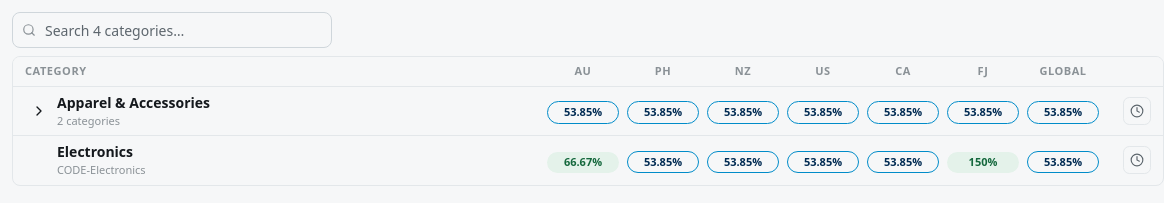
Test: CategoryMarginTree › search flattens to matching nodes shown with their full path
Type "jackets" into the search field at {"x": 172, "y": 30}, box [12,12,332,48]
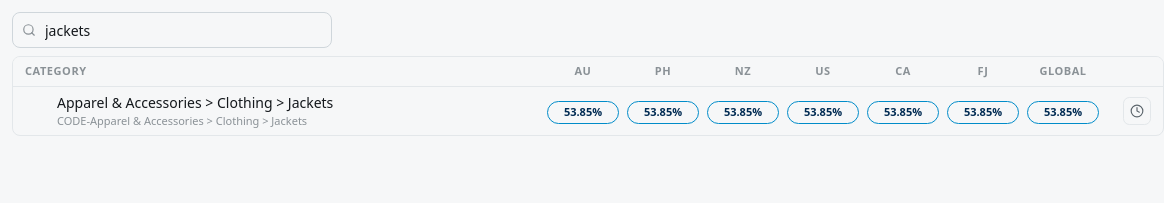
Result: the text "Apparel & Accessories > Clothing > Jackets" is shown at [57,92,333,112]
Result: the text "Electronics" is gone
